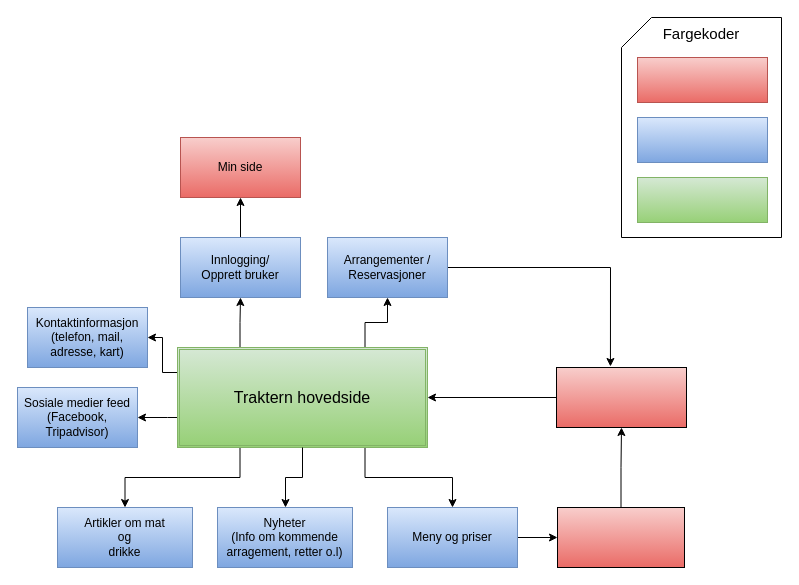
This 799x585 diagram has some shape labels left out. The shapes that lost their labels are listed below. From the top down, each one's centre as x and y in pixels, then its label:
[702,79]: Krever innlogging
[702,139]: Krever ikke innlogging
[702,199]: Hovedside
[621,397]: Betaling/ Kvittering (til kunde og bedrift)
[620,537]: Bestillinger
